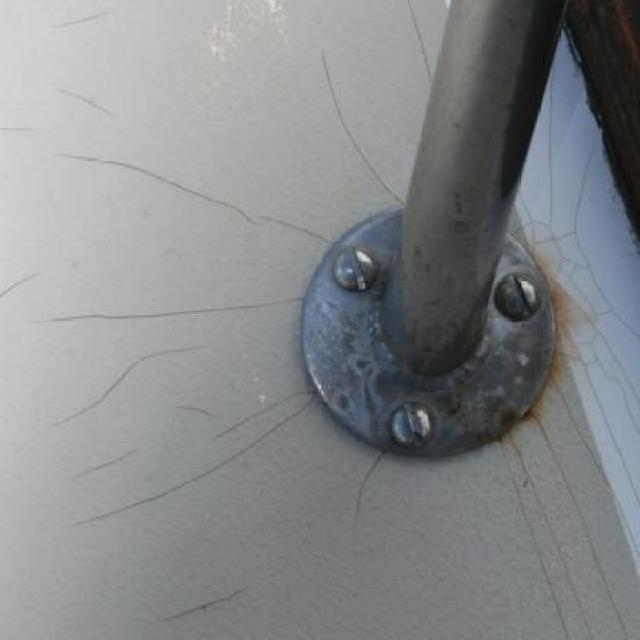crack: (92, 389, 326, 531), (43, 139, 260, 245), (298, 66, 420, 200), (49, 342, 180, 422), (30, 300, 296, 333), (137, 560, 266, 620), (54, 76, 140, 142), (156, 394, 270, 443), (75, 429, 143, 483)
